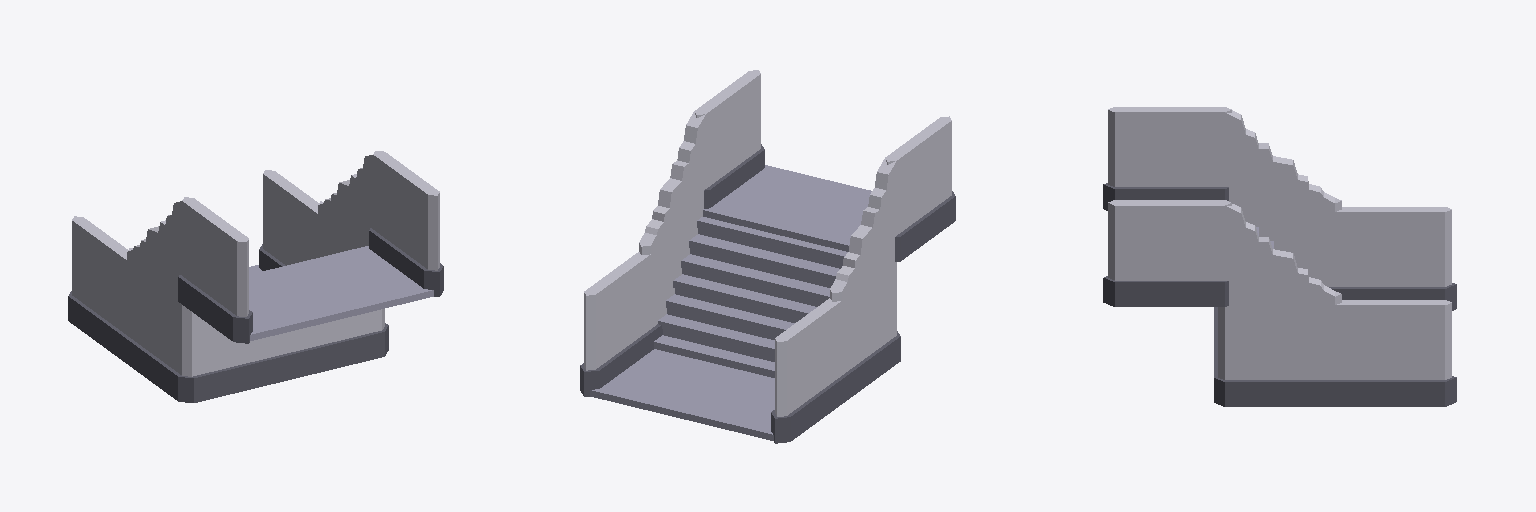
Rendered from hallway_stair_02.obj.
The picture shows the model from 3 angles: view 1: azimuth 30°, elevation 25°; view 2: azimuth 150°, elevation 25°; view 3: azimuth 270°, elevation 25°; orthographic projection.
Parts seen in each view (by area): view 1: stairs_01_0, floor_04_1, wall_01_4, wall_01_5, wall_01_3, wall_01_6; view 2: stairs_01_0, floor_04_0, floor_04_1, wall_01_3, wall_01_6, wall_01_4, wall_01_5; view 3: stairs_01_0, wall_01_5, wall_01_6, wall_01_4, wall_01_3.
Part boxes in pixels (x1,y1,x2,y2): stairs_01_0: (123,153,388,402); floor_04_1: (249,246,433,340); wall_01_4: (178,197,252,343); wall_01_5: (369,151,443,296); wall_01_3: (68,216,127,360); wall_01_6: (259,170,318,270); stairs_01_0: (639,110,900,400); floor_04_0: (590,349,774,440); floor_04_1: (703,165,871,251); wall_01_3: (771,298,845,443); wall_01_6: (580,252,654,396); wall_01_4: (885,116,955,261); wall_01_5: (694,70,764,208); stairs_01_0: (1214,107,1341,406); wall_01_5: (1103,200,1231,306); wall_01_6: (1335,300,1456,406); wall_01_4: (1103,107,1231,210); wall_01_3: (1335,207,1456,310).
Size of the model in its own units: 2.21 by 2 by 3.21.